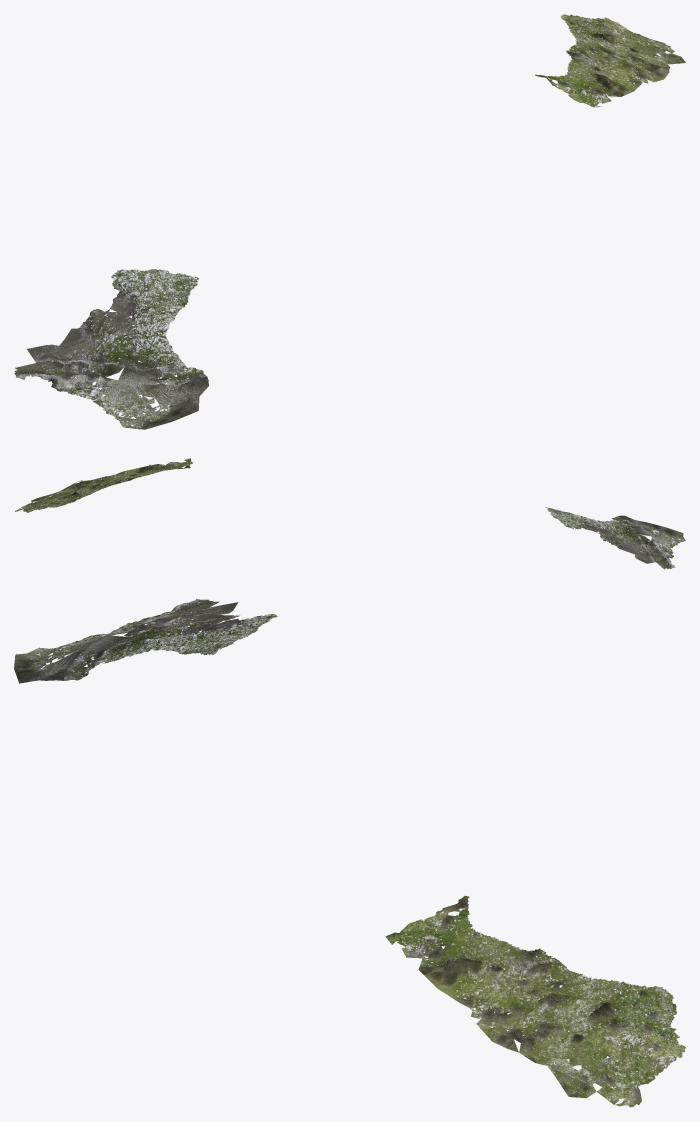
3 renders of one model, top to bottom at view 1: azimuth 30°, elevation 25°; view 2: azimuth 150°, elevation 25°; view 3: azimuth 270°, elevation 25°, orthographic. The views are drawn at different scales.
Bounding box in the file's own units: 199 × 21.09 × 109.
Materials: 1 (1 with a texture image).
